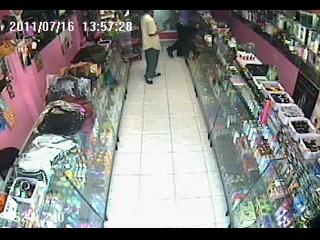Normal: (140, 10, 166, 84)
